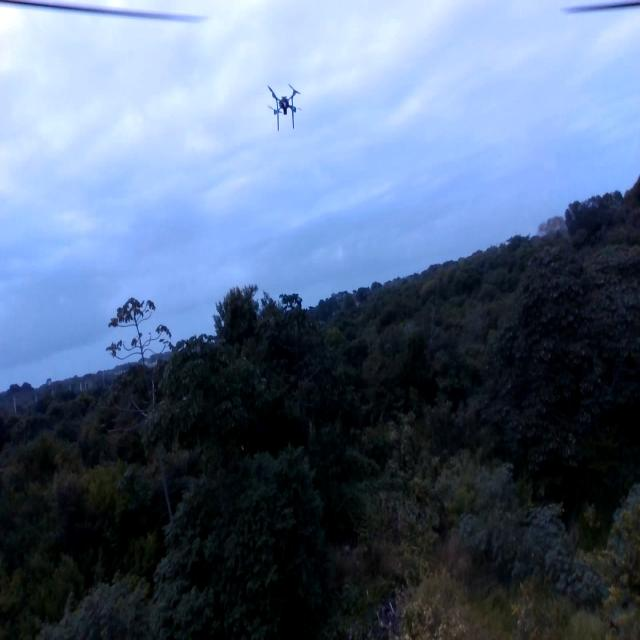-uav-: (262, 68, 305, 142)
